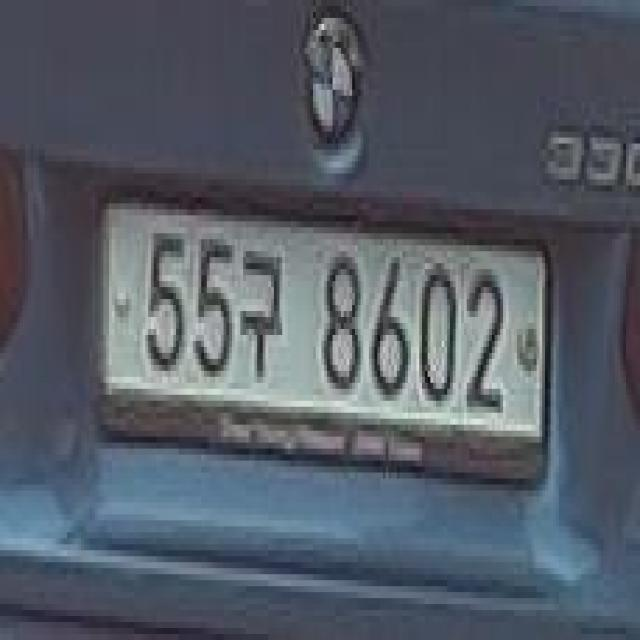0: (418, 254, 460, 412)
2: (463, 260, 507, 418)
5: (141, 226, 187, 370), (190, 225, 233, 373)
6: (369, 246, 414, 398)
8: (319, 242, 367, 398)
gu: (236, 228, 282, 396)
license_plate: (88, 172, 564, 516)
